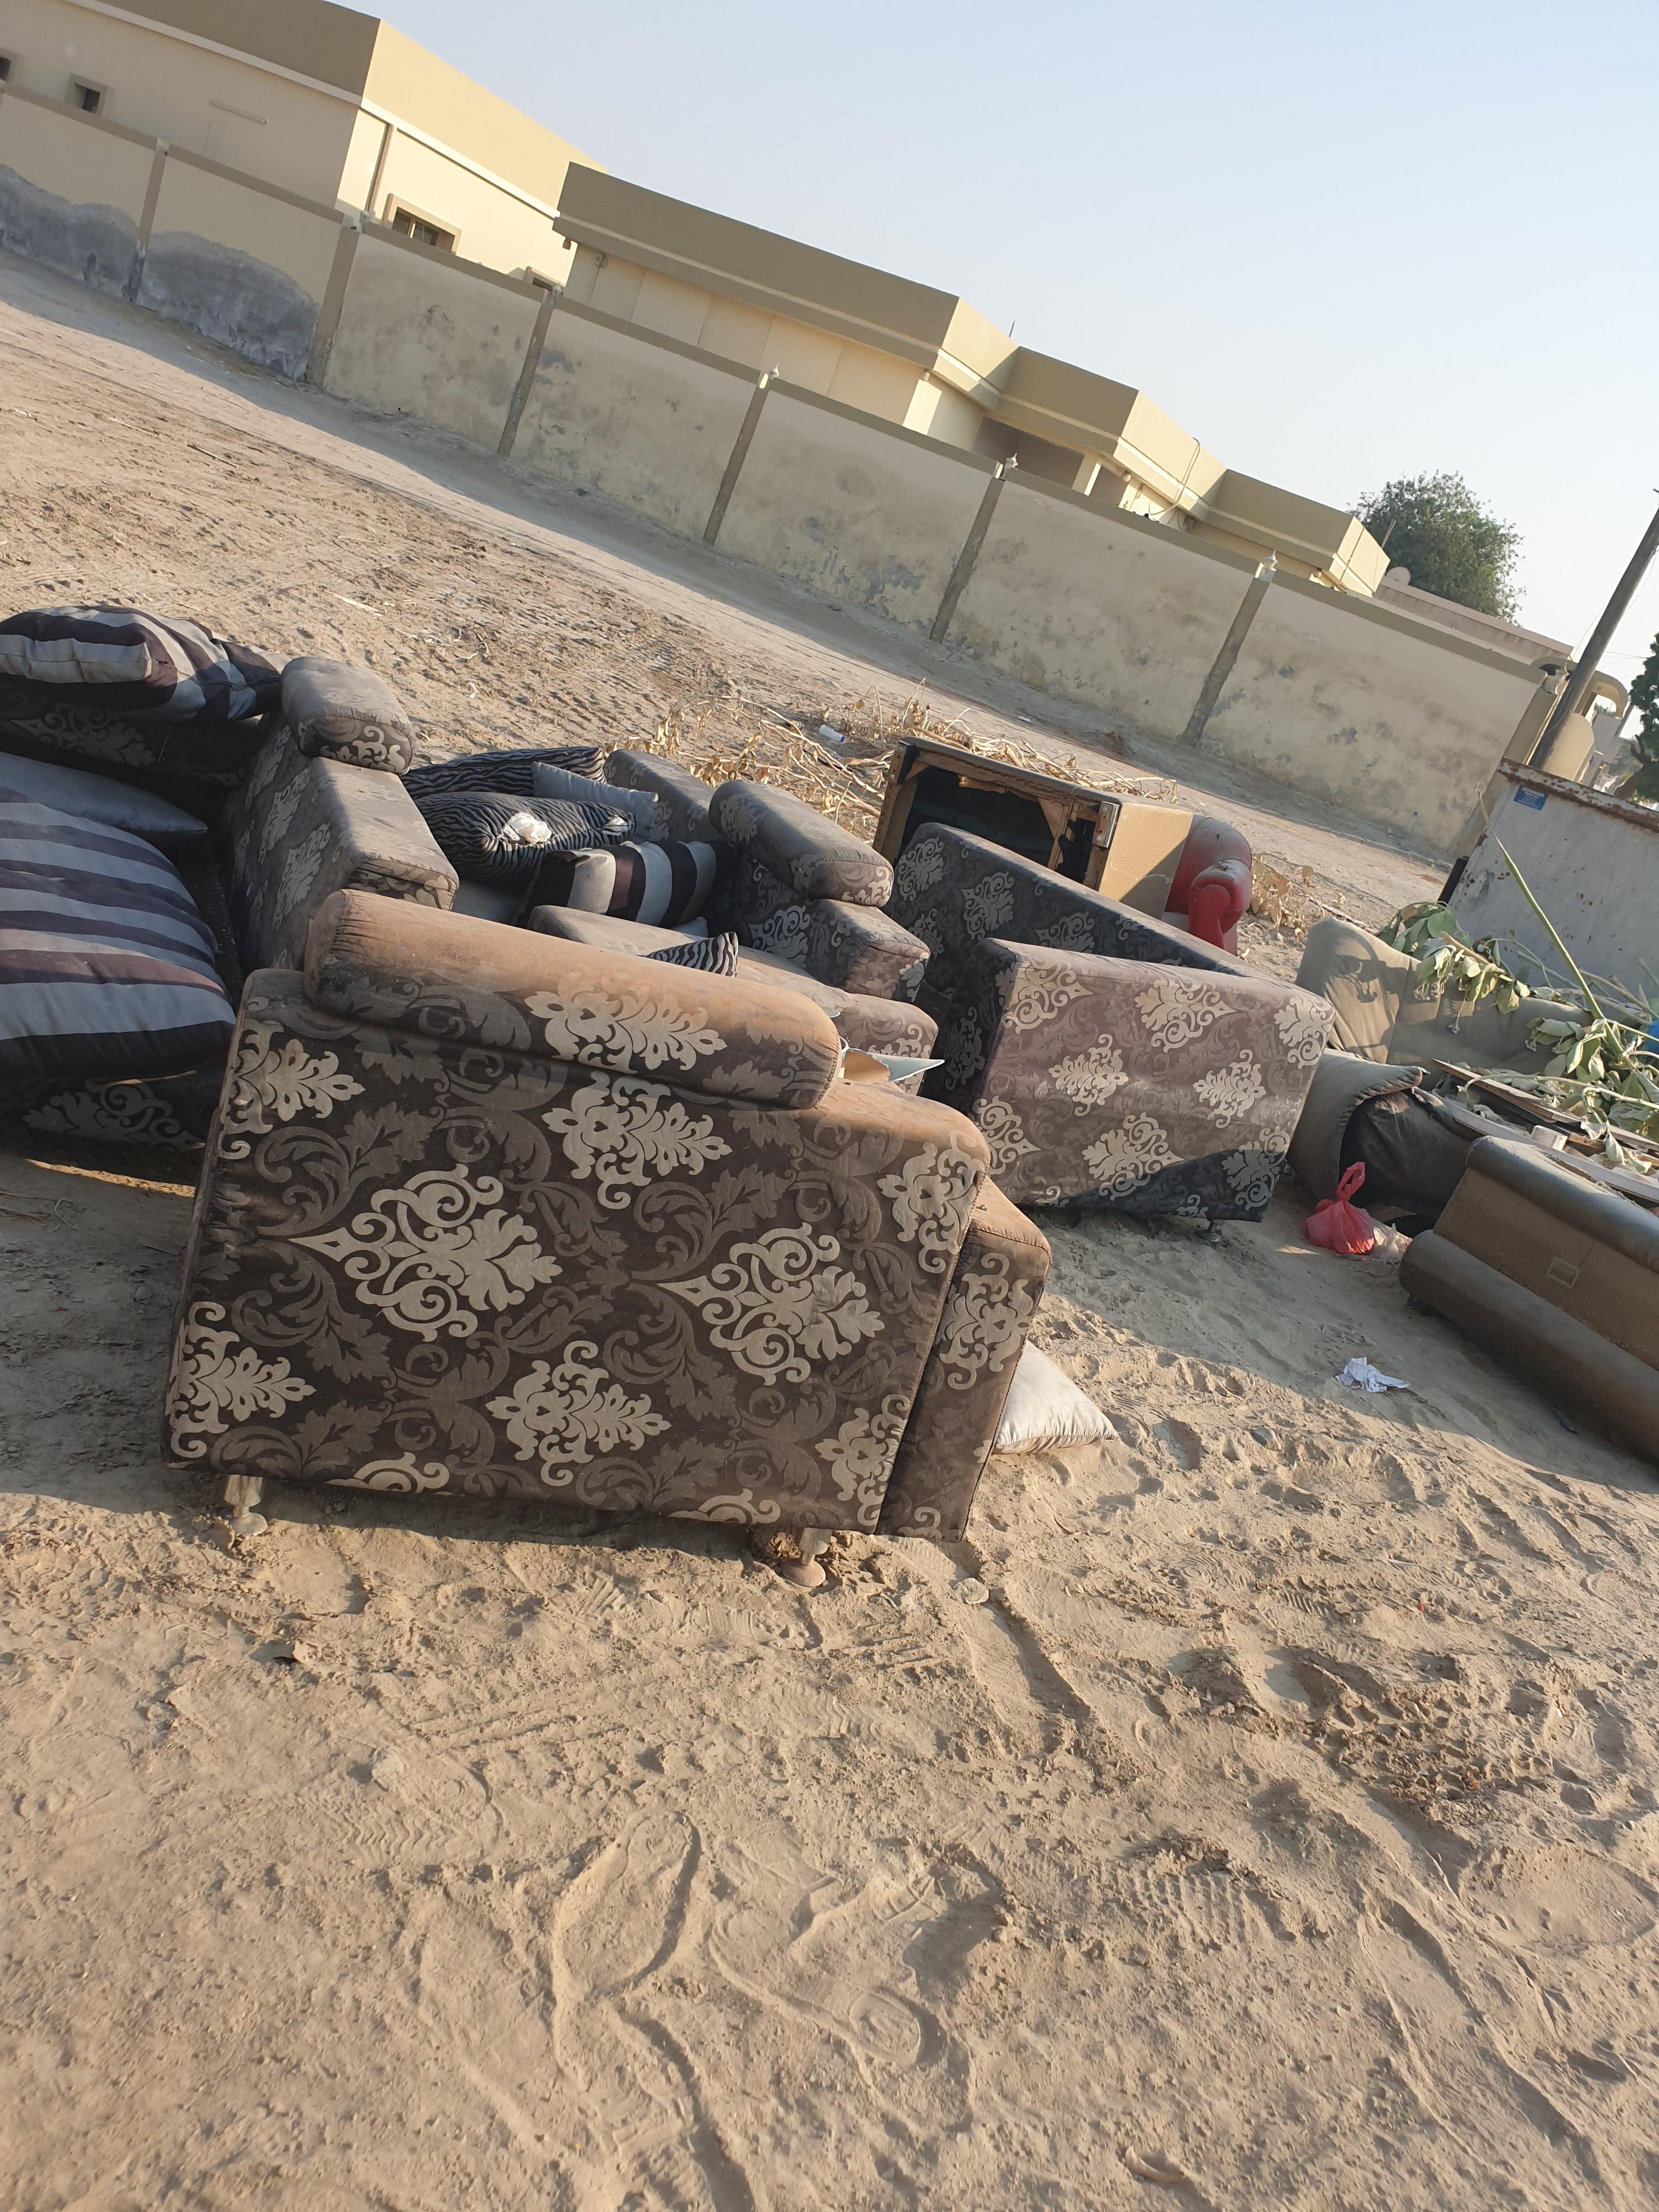uncollected_waste: (49, 495, 1328, 1702), (244, 787, 1265, 1649), (467, 592, 1410, 1371)
